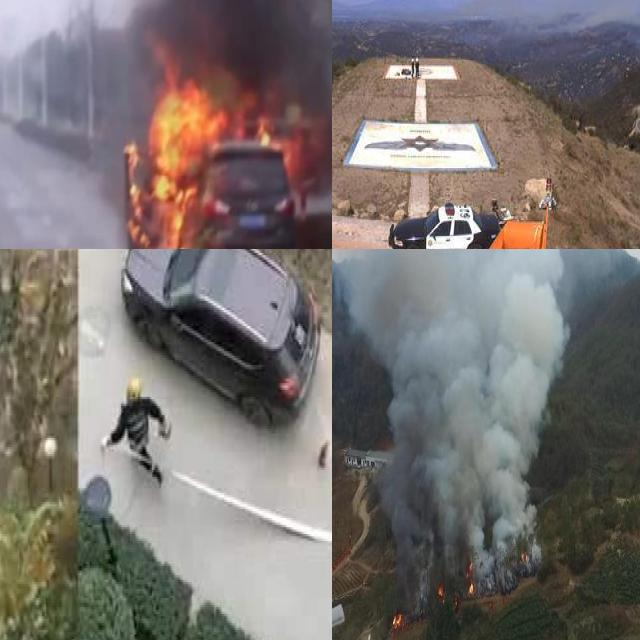fire: (124, 54, 309, 249), (379, 457, 552, 640)
smoke: (332, 249, 572, 592), (106, 0, 332, 192), (488, 0, 640, 48)
